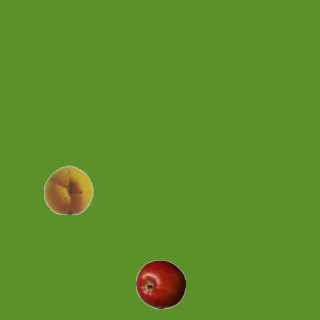Apple Braeburn: (135, 259, 185, 309)
Peach 2: (43, 164, 93, 214)
